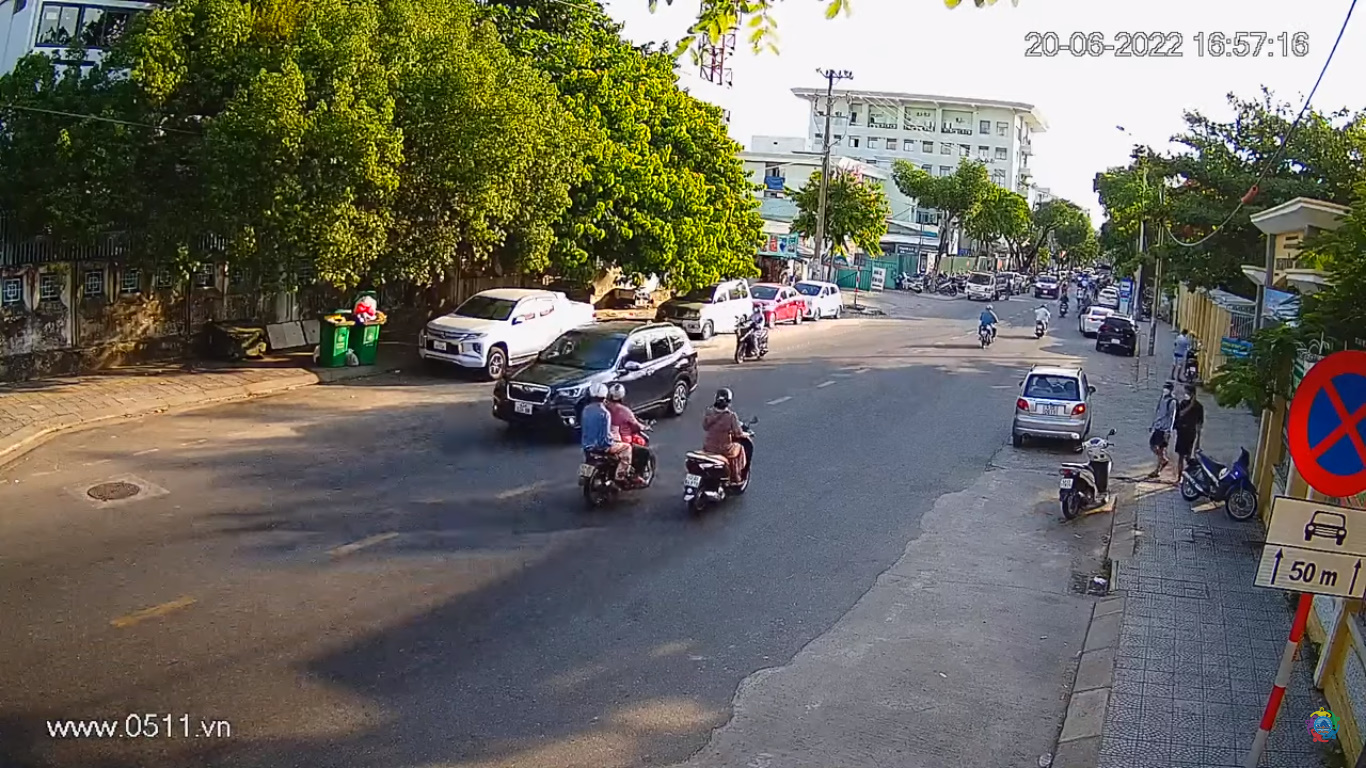car: (492, 324, 700, 448)
